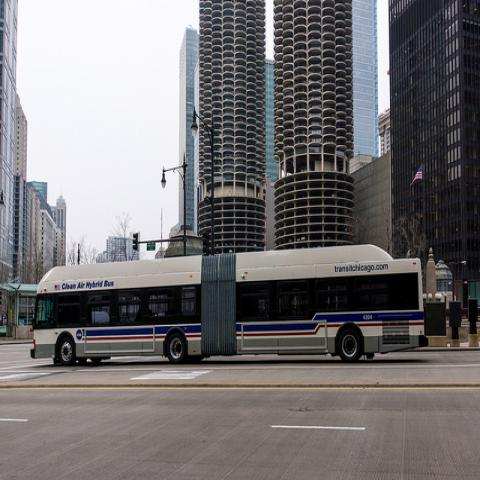bus: (31, 243, 427, 371)
